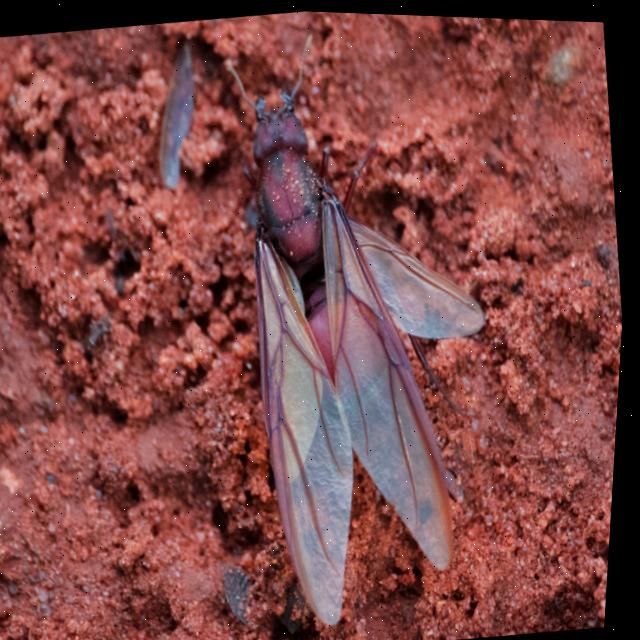Alive-Female-Alate: (197, 10, 538, 637)
